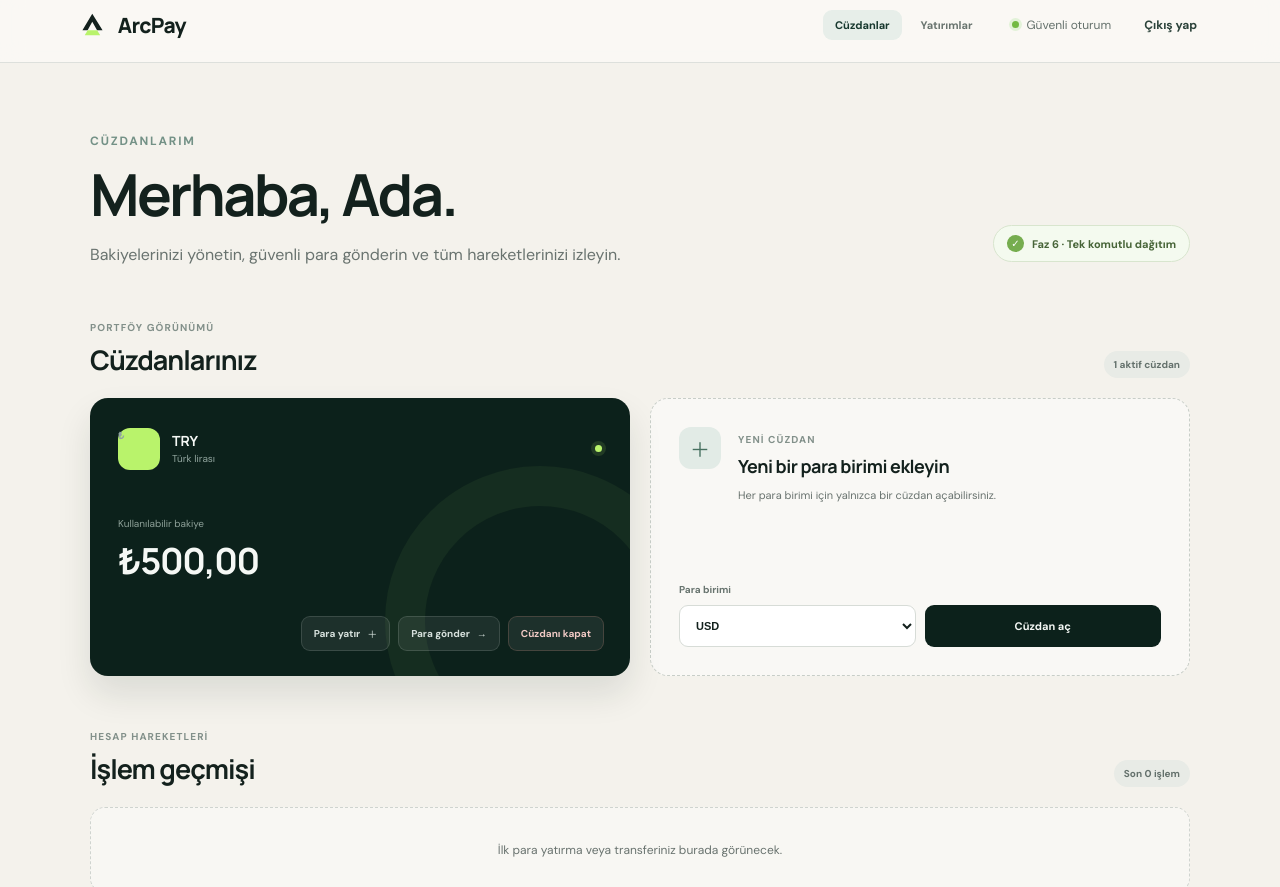
Test: ArcPay authentication flow › transfers money and shows the completed movement
Expected: the text "₺500,00" is shown, left=118, top=536, right=259, bottom=585
Click the button "Para gönder →": (449, 634) left=398, top=616, right=500, bottom=651
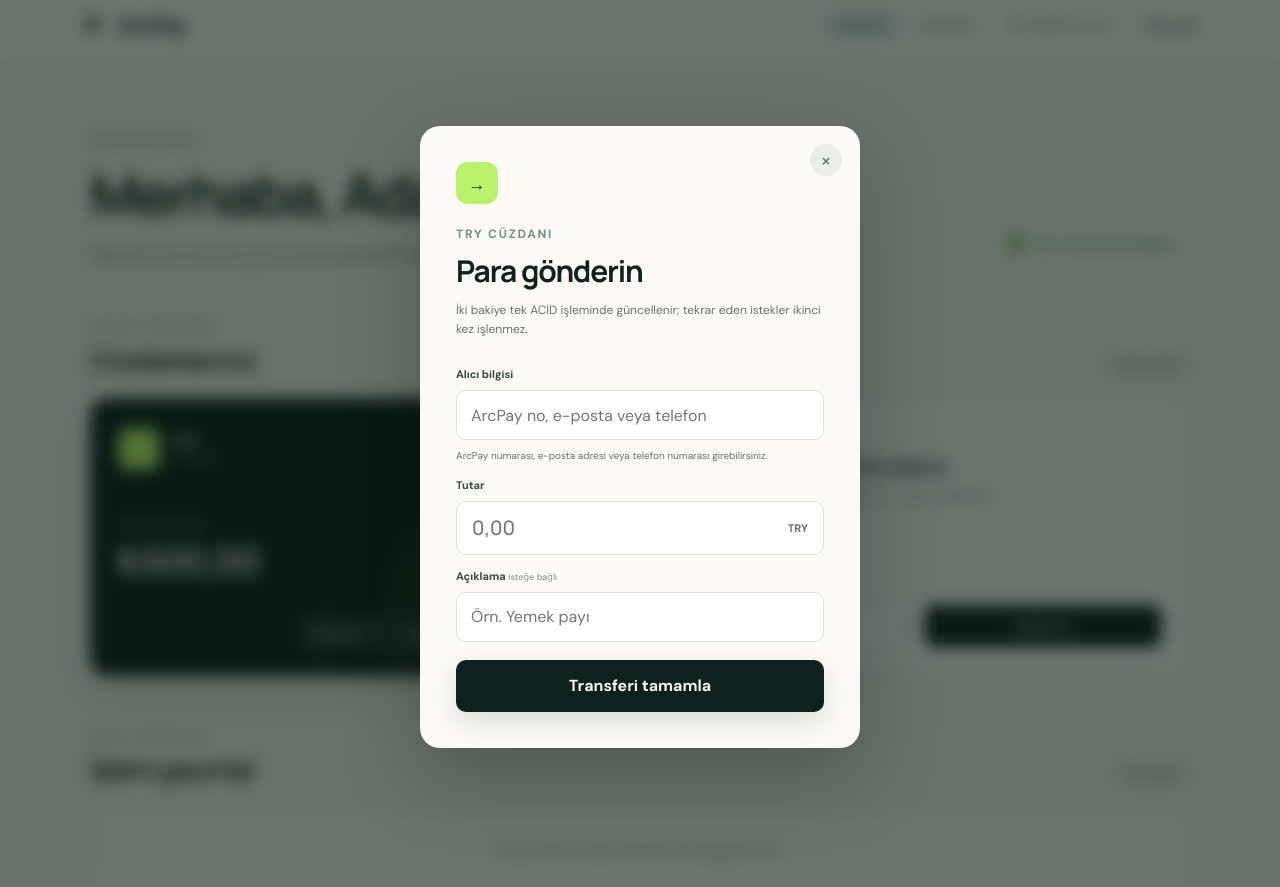
In the field labelled "Alıcı bilgisi": (640, 415) left=456, top=390, right=824, bottom=440, type "grace@arcpay.test"
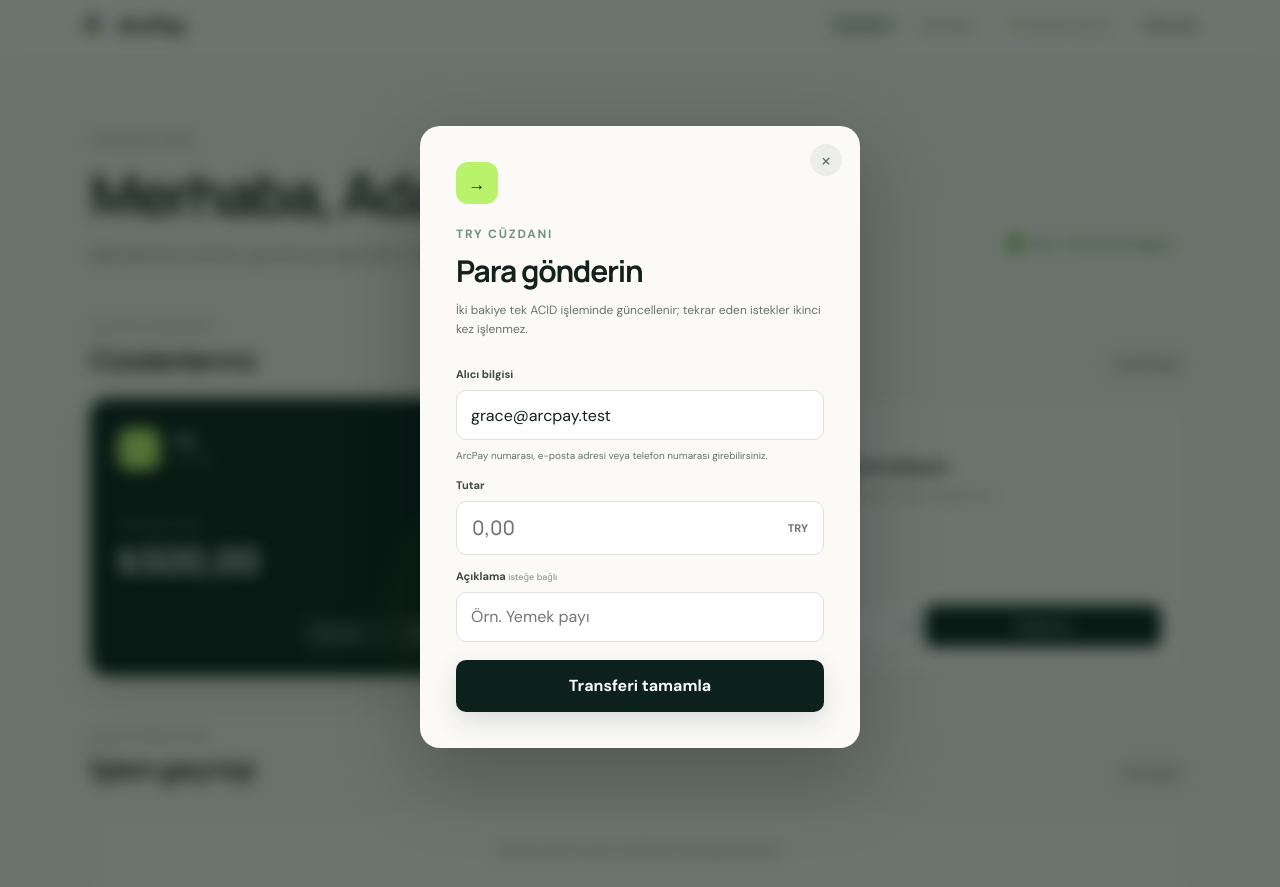
In the field labelled "Tutar": (615, 528) left=457, top=502, right=773, bottom=554, type "125"
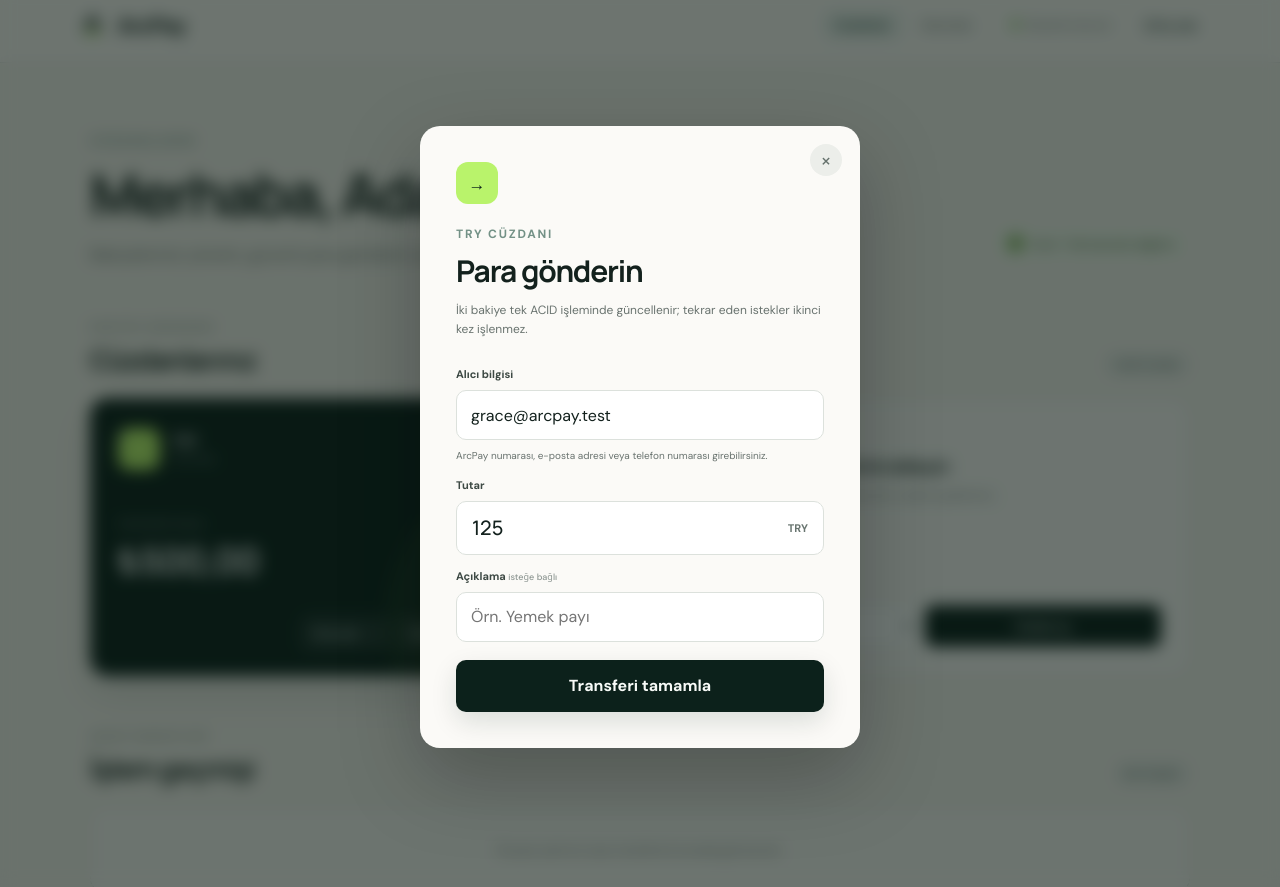
In the field labelled "Açıklama isteğe bağlı": (640, 617) left=456, top=592, right=824, bottom=642, type "Yemek payı"
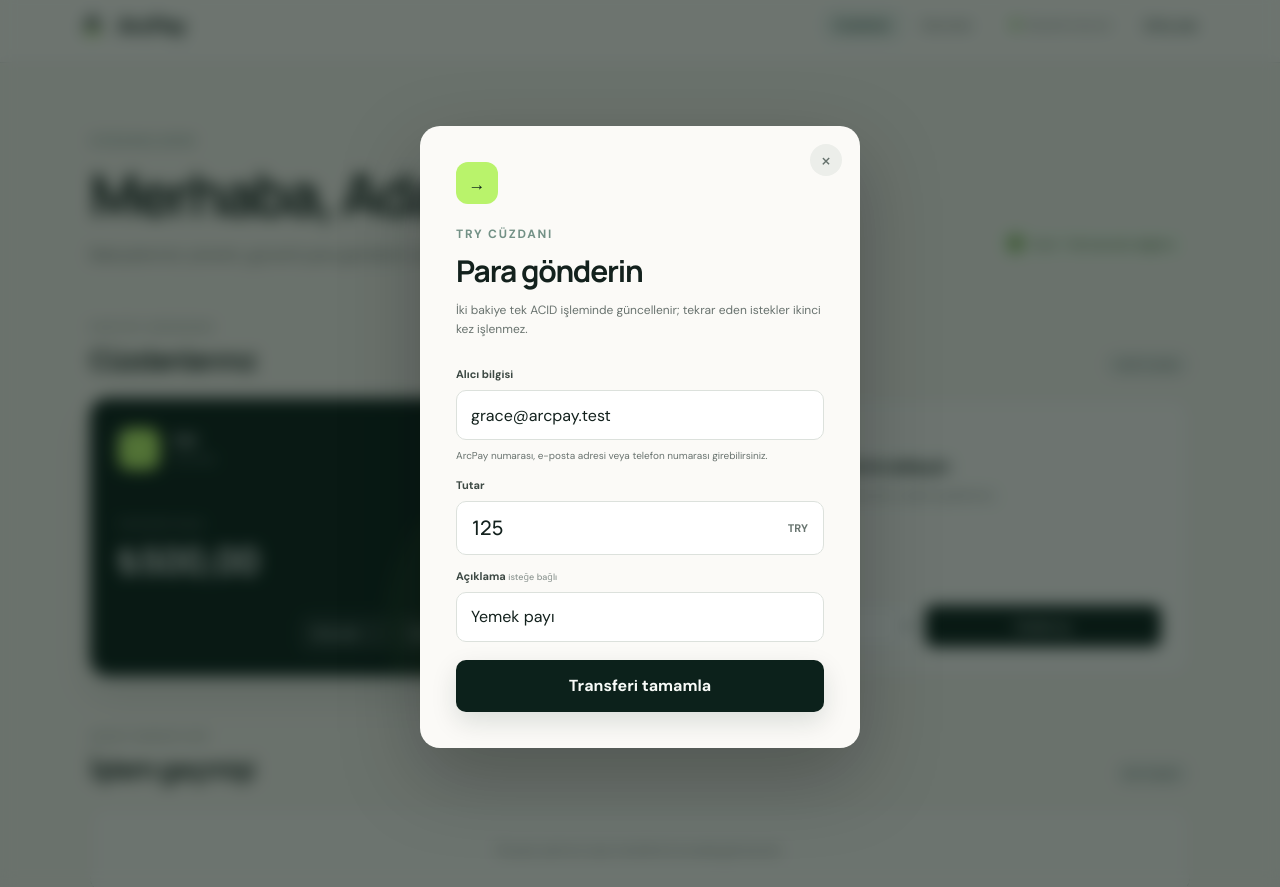
Click the button "Transferi tamamla": (640, 686) left=456, top=660, right=824, bottom=712
(page scrolled)
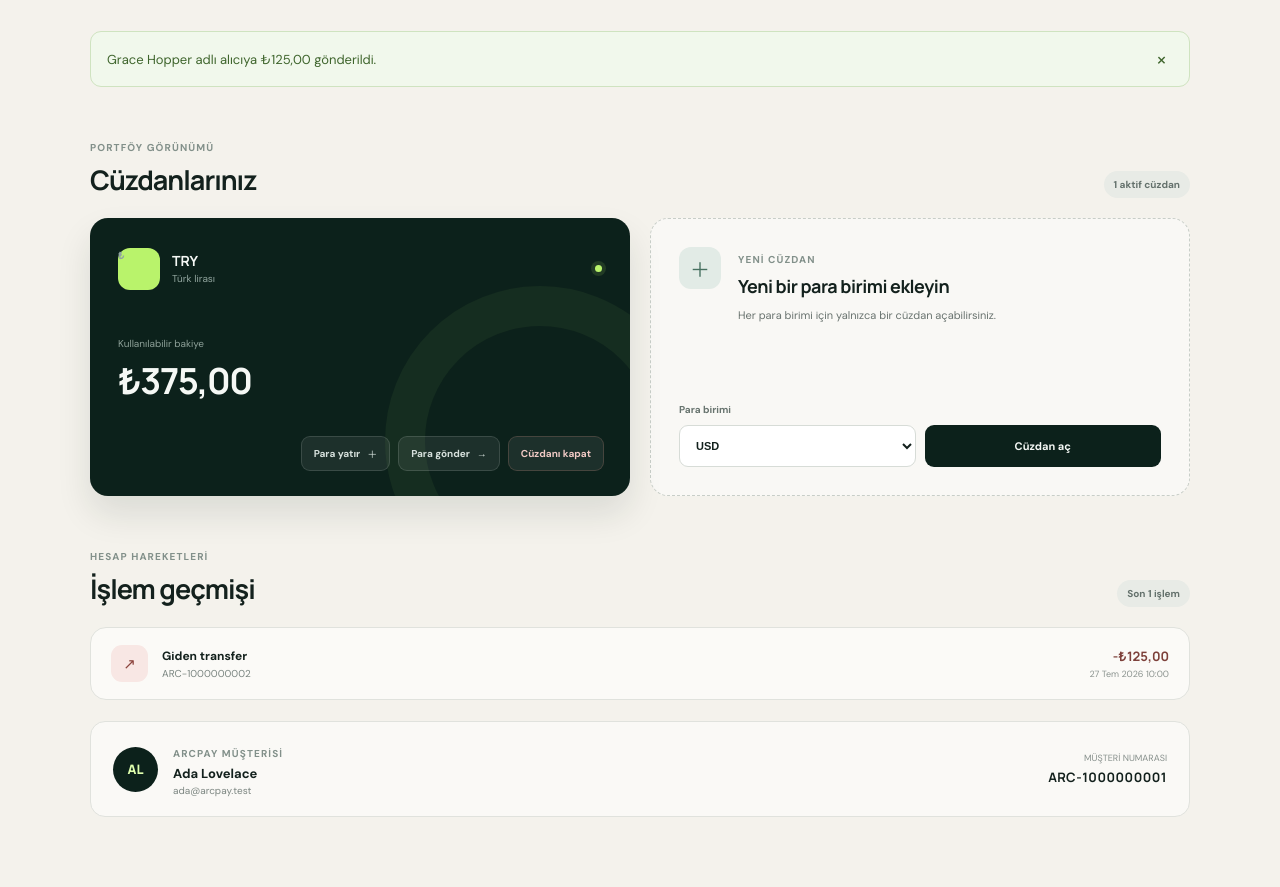
Now the text "Grace Hopper adlı alıcıya ₺125,00 gönderildi. ×" is shown, box left=90, top=31, right=1190, bottom=87
Now the text "Giden transfer" is shown, box left=162, top=648, right=247, bottom=664
Now the text "ARC-1000000002" is shown, box left=162, top=667, right=251, bottom=680
